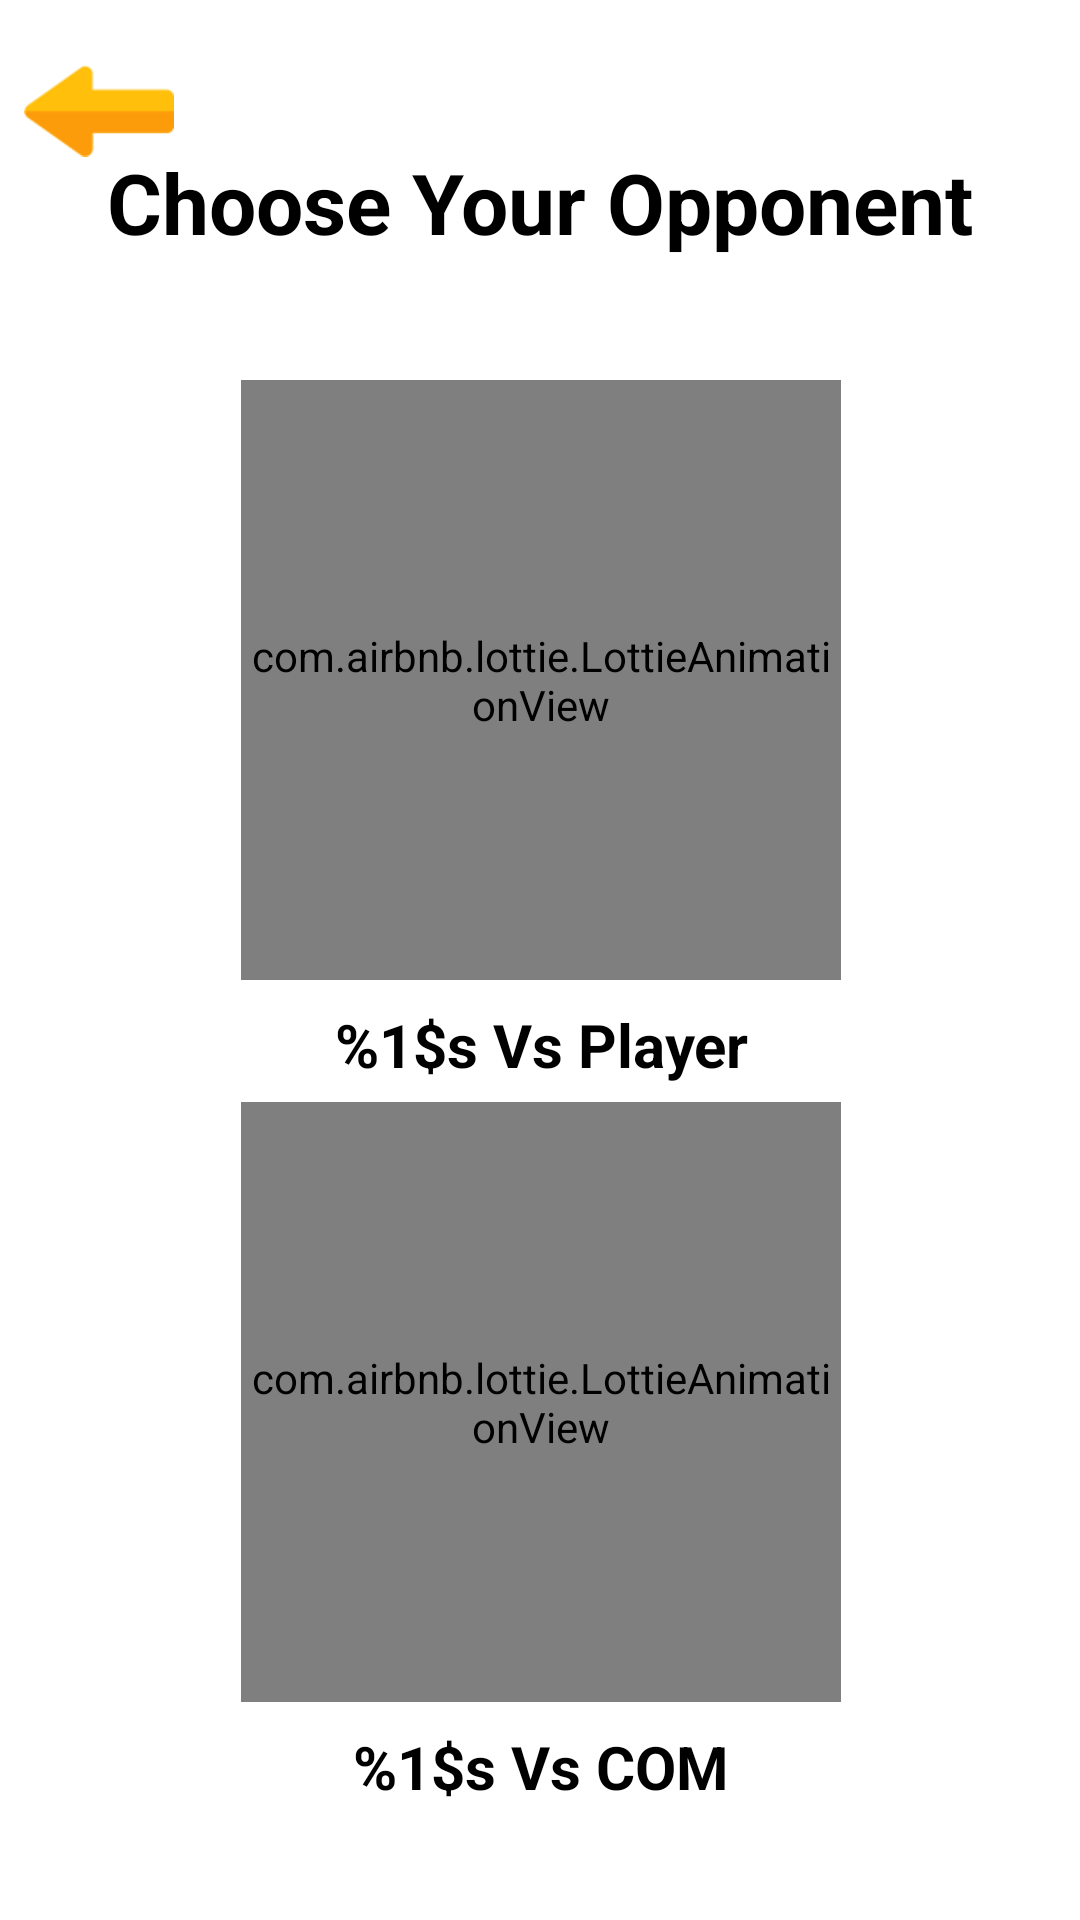

Icon bounding boxes for this 1080 x 1920 phone screenshot, format (x1, y1, x2, y2):
back: (24, 65, 174, 157)
